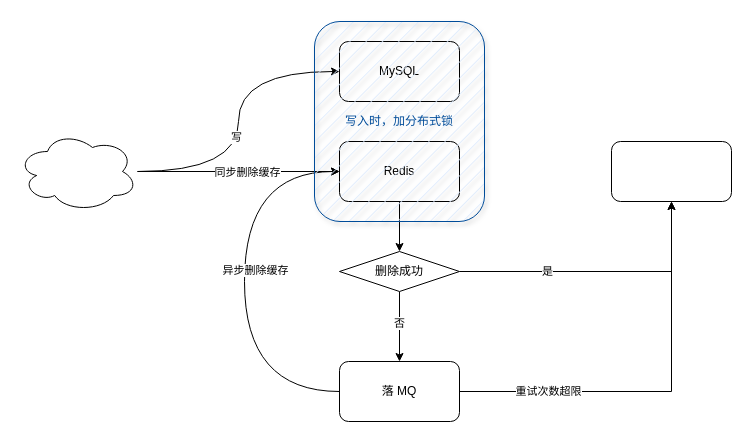
Image size: 749x439. Some labels were removed from this diagram. Here are the shapes that lost their labels. From the top down, the centre of each, then its label:
At point 77,171: "App".
At point 671,171: "结束".
